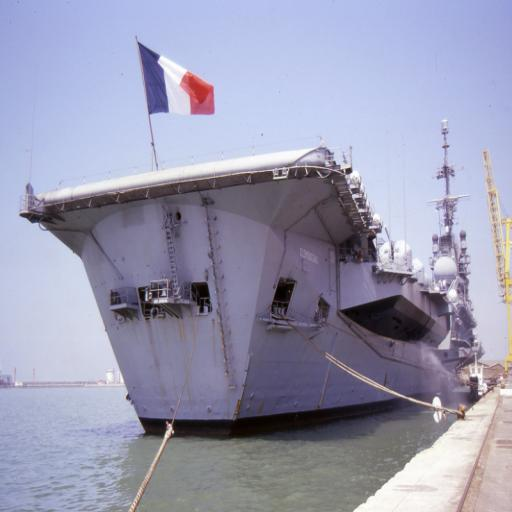Portanaves: (20, 84, 490, 443)
